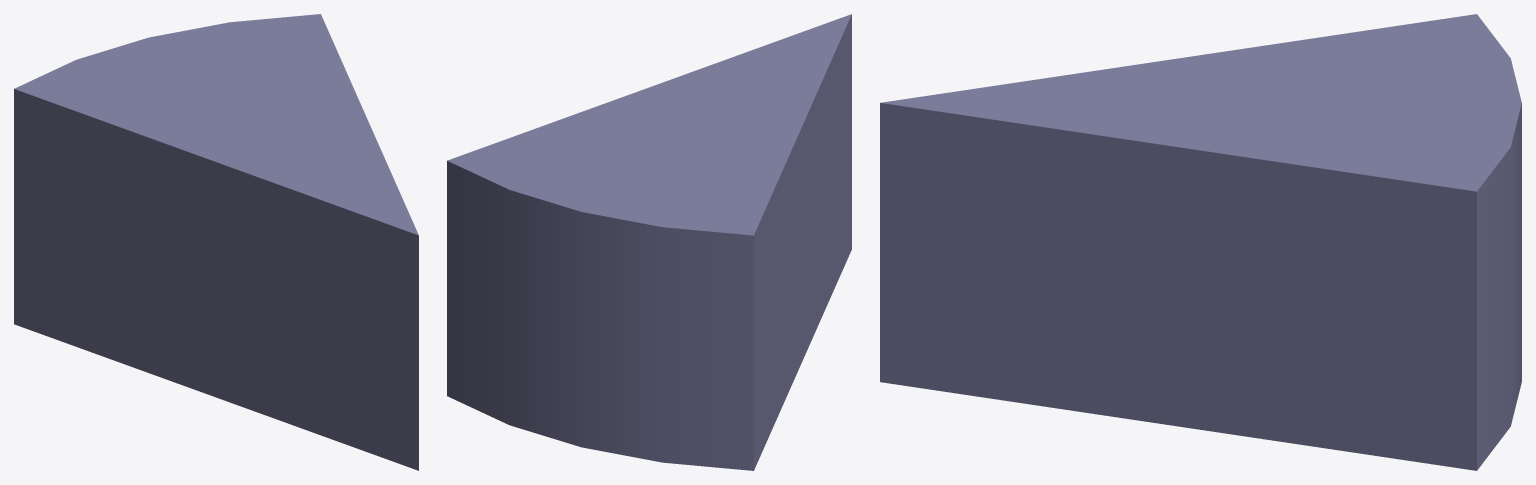
The model's file is Cheese_001.fbx.
3 renders of one model, left to right at view 1: azimuth 30°, elevation 25°; view 2: azimuth 150°, elevation 25°; view 3: azimuth 270°, elevation 25°, orthographic. The views are drawn at different scales.
Visible parts, largest first — view 1: cheese; view 2: cheese; view 3: cheese.
Boxes of the visible parts, left/top/right/bottom form: cheese: left=14, top=14, right=418, bottom=470; cheese: left=447, top=14, right=851, bottom=470; cheese: left=880, top=14, right=1521, bottom=470.
Size of the model in its own units: 27.48 by 20.14 by 41.94.
